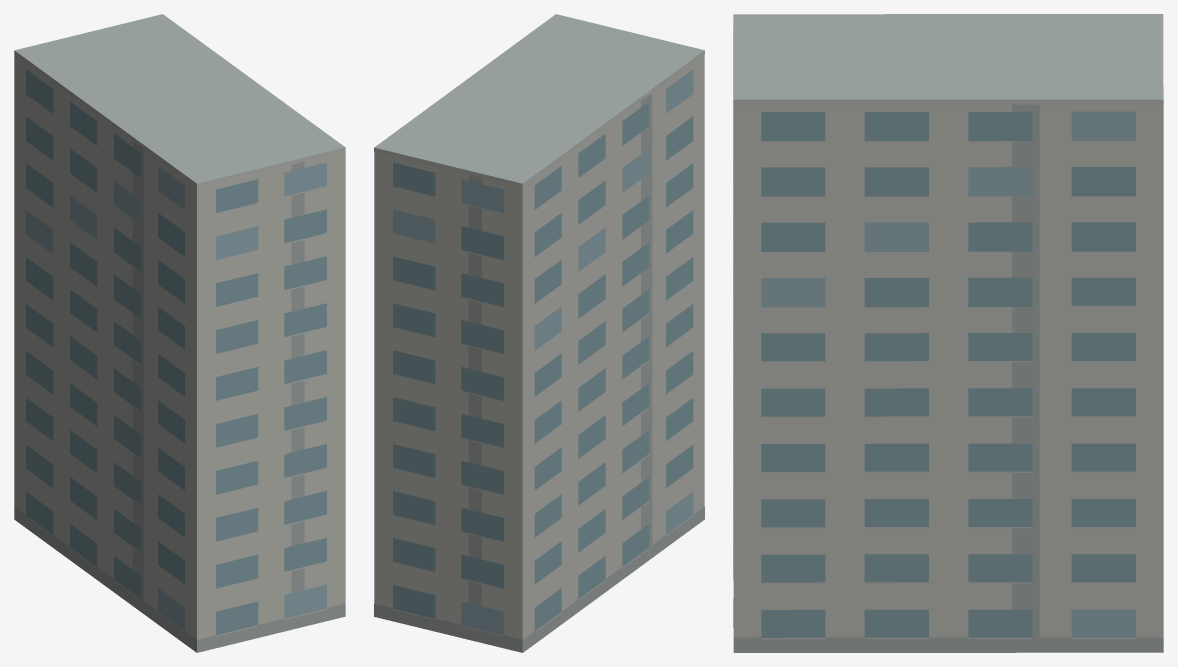
Rendered from residential-0cb6cb05-a1f2-46d4-8ccd-521db08f2a76.glb.
The picture shows the model from 3 angles, left to right: view 1: azimuth 30°, elevation 25°; view 2: azimuth 150°, elevation 25°; view 3: azimuth 270°, elevation 25°; orthographic projection. The views are drawn at different scales.
Parts seen in each view (by area): view 1: residential-0cb6cb05-a1f2-46d4-8ccd-521db08f2a76.tmp; view 2: residential-0cb6cb05-a1f2-46d4-8ccd-521db08f2a76.tmp; view 3: residential-0cb6cb05-a1f2-46d4-8ccd-521db08f2a76.tmp.
Part boxes in pixels (box(x1,y1,x2,y2)): residential-0cb6cb05-a1f2-46d4-8ccd-521db08f2a76.tmp: box(14, 14, 345, 652); residential-0cb6cb05-a1f2-46d4-8ccd-521db08f2a76.tmp: box(374, 14, 704, 652); residential-0cb6cb05-a1f2-46d4-8ccd-521db08f2a76.tmp: box(733, 14, 1163, 652).
Size of the model in its own units: 9 by 27 by 19.05.
